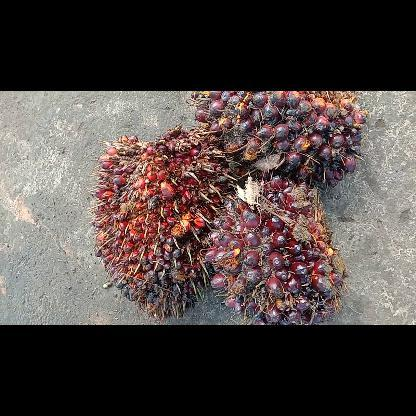Kurang masak: (206, 178, 348, 324), (190, 91, 364, 187)
TBS masak: (92, 127, 238, 319)
